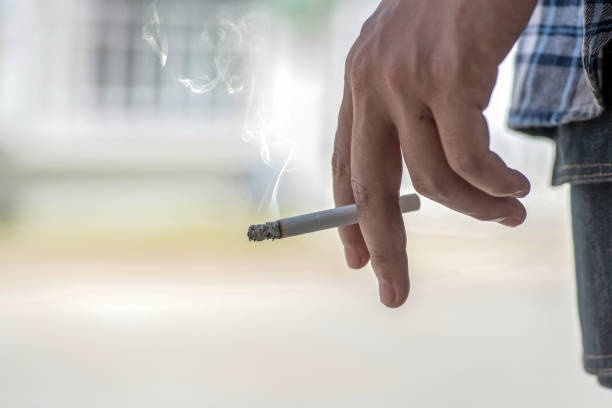sigaretta: (240, 192, 421, 244)
